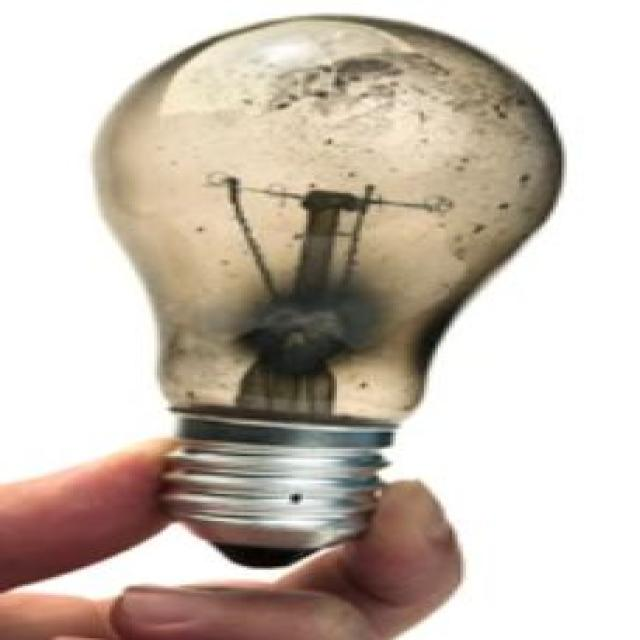electronic: (87, 11, 564, 566)
